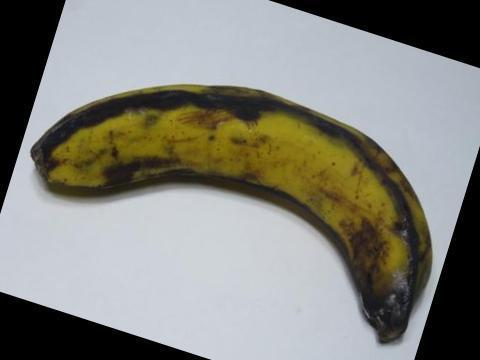overripe: (18, 70, 450, 339)
rotten: (327, 259, 430, 350)
